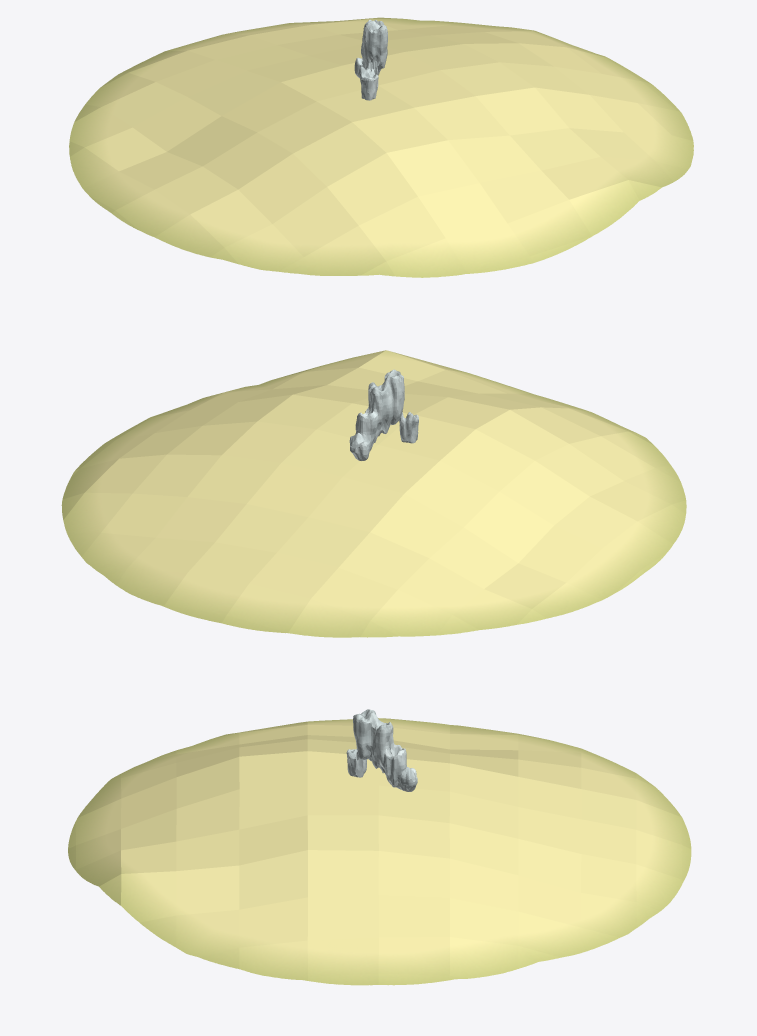
File: RockyReef.fbx
The picture shows the model from 3 angles, top to bottom: view 1: azimuth 30°, elevation 25°; view 2: azimuth 150°, elevation 25°; view 3: azimuth 270°, elevation 25°; orthographic projection.
Visible parts, largest first — view 1: 円, 立方体; view 2: 円, 立方体; view 3: 円, 立方体.
Boxes of the visible parts, bbox=[...] form: 円: bbox=[69, 17, 693, 277]; 立方体: bbox=[354, 19, 387, 100]; 円: bbox=[61, 350, 686, 637]; 立方体: bbox=[349, 369, 418, 460]; 円: bbox=[68, 718, 691, 985]; 立方体: bbox=[346, 709, 417, 791].
Size of the model in its own units: 5814 by 1333 by 5814.
